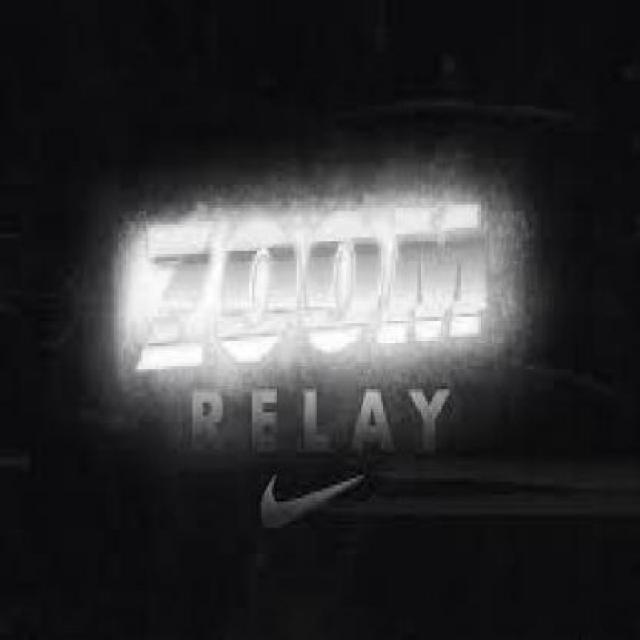Nike: (247, 458, 372, 535)
